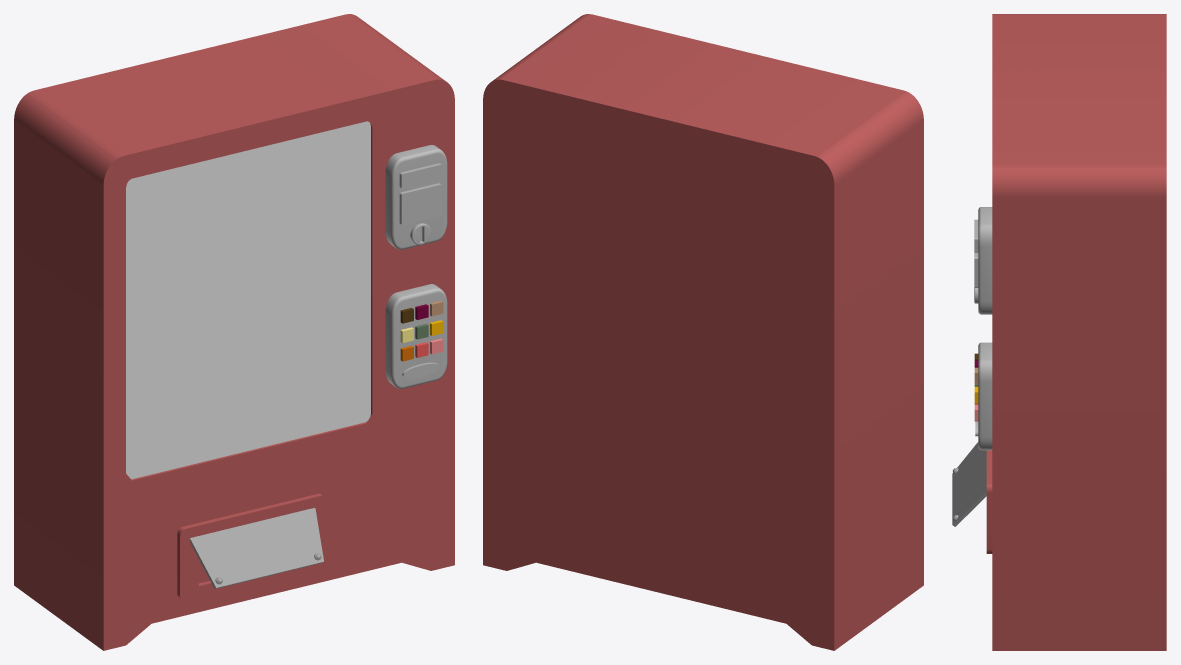
File: Maquina_Expendedora.fbx
3 views of the same model, side by side, from view 1: azimuth 30°, elevation 25°; view 2: azimuth 150°, elevation 25°; view 3: azimuth 270°, elevation 25° (orthographic). The views are drawn at different scales.
Parts seen in each view (by area): view 1: Body_Despachador, Frente, Seleccionador, Monedero, display, boton_pagar; view 2: Body_Despachador; view 3: Body_Despachador, Frente, Seleccionador, Monedero.
Part boxes in pixels (<box>): Body_Despachador: <box>14,14,454,650</box>; Frente: <box>190,507,323,588</box>; Seleccionador: <box>385,284,447,388</box>; Monedero: <box>385,145,447,249</box>; display: <box>399,183,442,225</box>; boton_pagar: <box>399,163,442,188</box>; Body_Despachador: <box>483,14,923,650</box>; Body_Despachador: <box>986,14,1166,650</box>; Frente: <box>952,442,986,526</box>; Seleccionador: <box>975,342,992,450</box>; Monedero: <box>978,207,992,314</box>.
Size of the model in its own units: 216 by 288 by 117.
